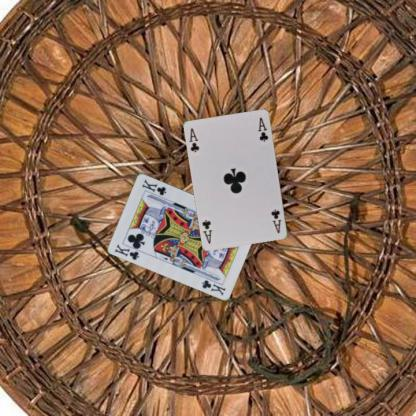Ac: (186, 125, 200, 154), (268, 207, 283, 234)
Kc: (113, 241, 140, 261)
